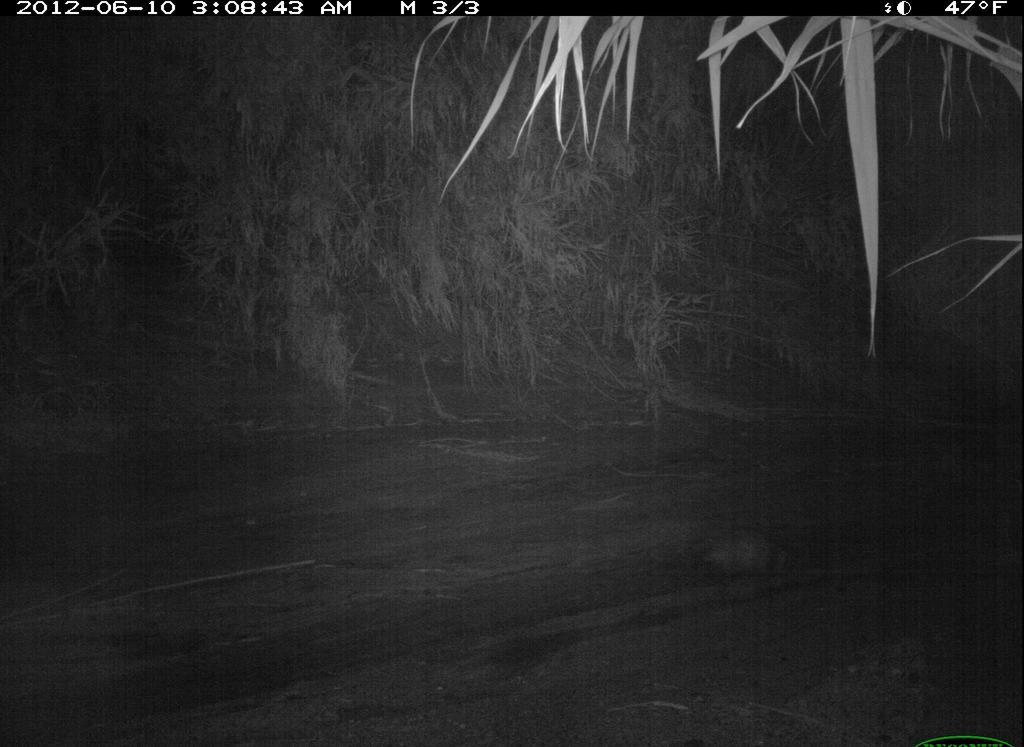opossum: (651, 514, 835, 596)
